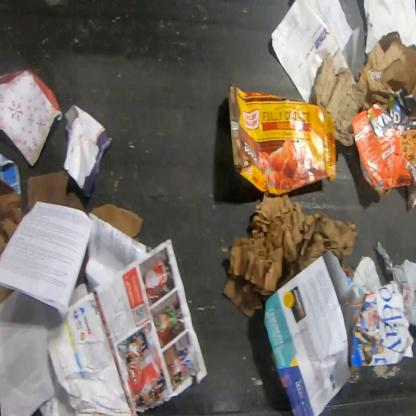cardboard: (261, 249, 358, 415), (227, 82, 338, 196), (350, 87, 415, 197), (313, 52, 368, 148), (356, 39, 415, 115), (88, 204, 145, 244), (0, 178, 24, 256), (0, 284, 15, 307)
